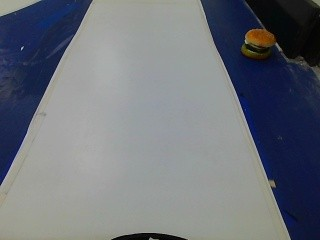burger: (239, 22, 280, 61)
